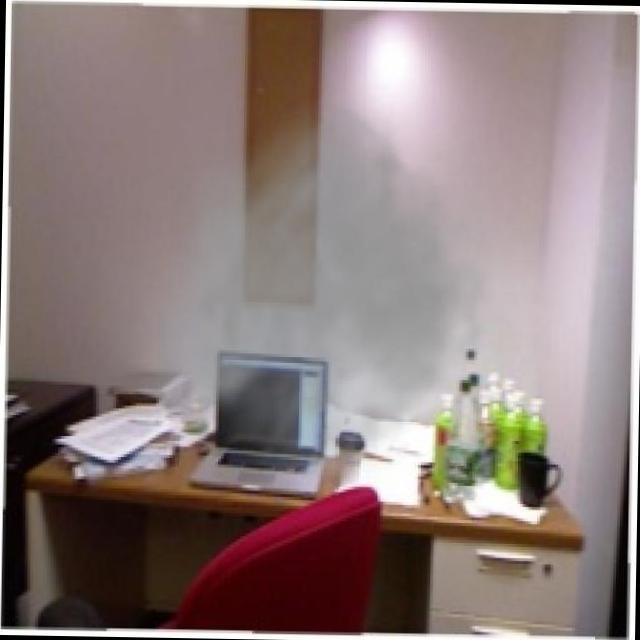Smoke: (154, 80, 536, 510)
